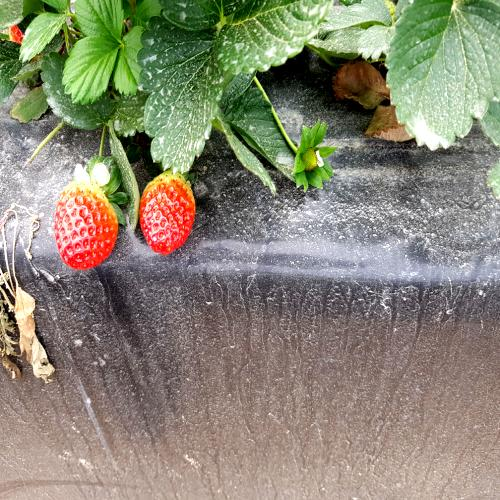ripe: (126, 166, 205, 258), (54, 170, 121, 276)
